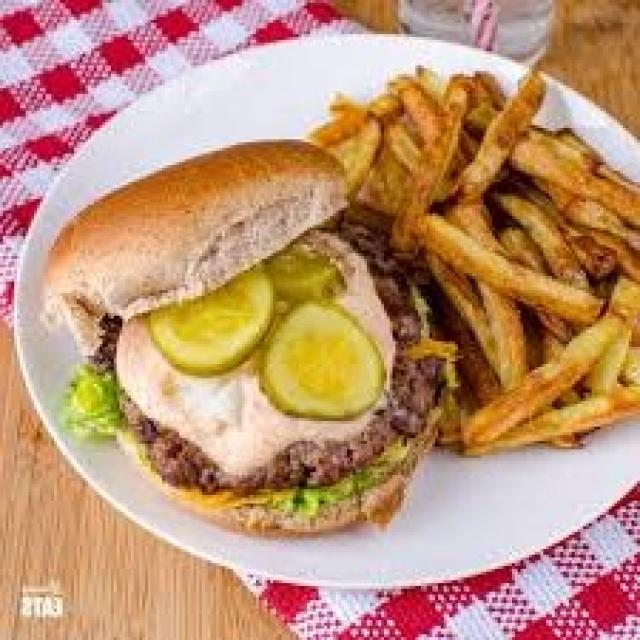Burger: (34, 137, 455, 540)
French Fries: (330, 54, 637, 455)
